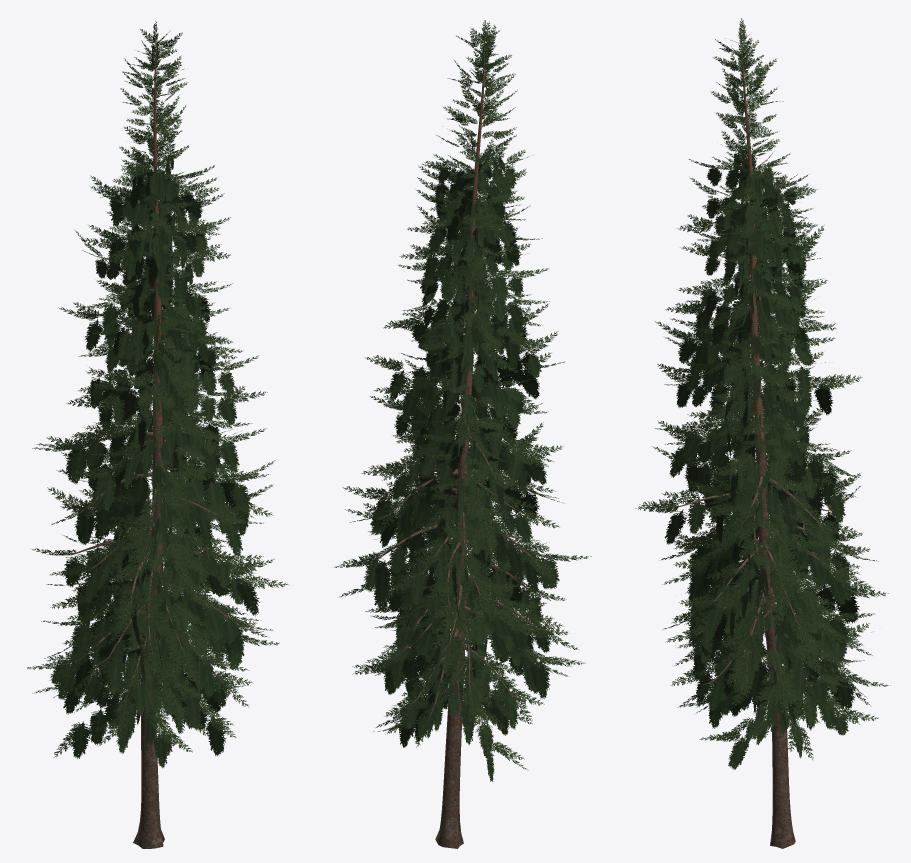
File: spruce_b_LOD0.fbx
3 renders of one model, left to right at view 1: azimuth 30°, elevation 25°; view 2: azimuth 150°, elevation 25°; view 3: azimuth 270°, elevation 25°, orthographic. The views are drawn at different scales.
Visible parts, largest first — view 1: Spruce_B_LOD0_Foliage, Spruce_B_LOD0_Bark; view 2: Spruce_B_LOD0_Foliage, Spruce_B_LOD0_Bark; view 3: Spruce_B_LOD0_Foliage, Spruce_B_LOD0_Bark.
Part boxes in pixels (x1,y1,x2,y2): Spruce_B_LOD0_Foliage: (27,21,289,768); Spruce_B_LOD0_Bark: (54,21,256,848); Spruce_B_LOD0_Foliage: (334,20,591,781); Spruce_B_LOD0_Bark: (362,20,564,848); Spruce_B_LOD0_Foliage: (635,18,890,769); Spruce_B_LOD0_Bark: (662,21,868,848).
Bounding box in the file's own units: 7.42 × 23.11 × 6.9.
2 materials, 2 textured.
